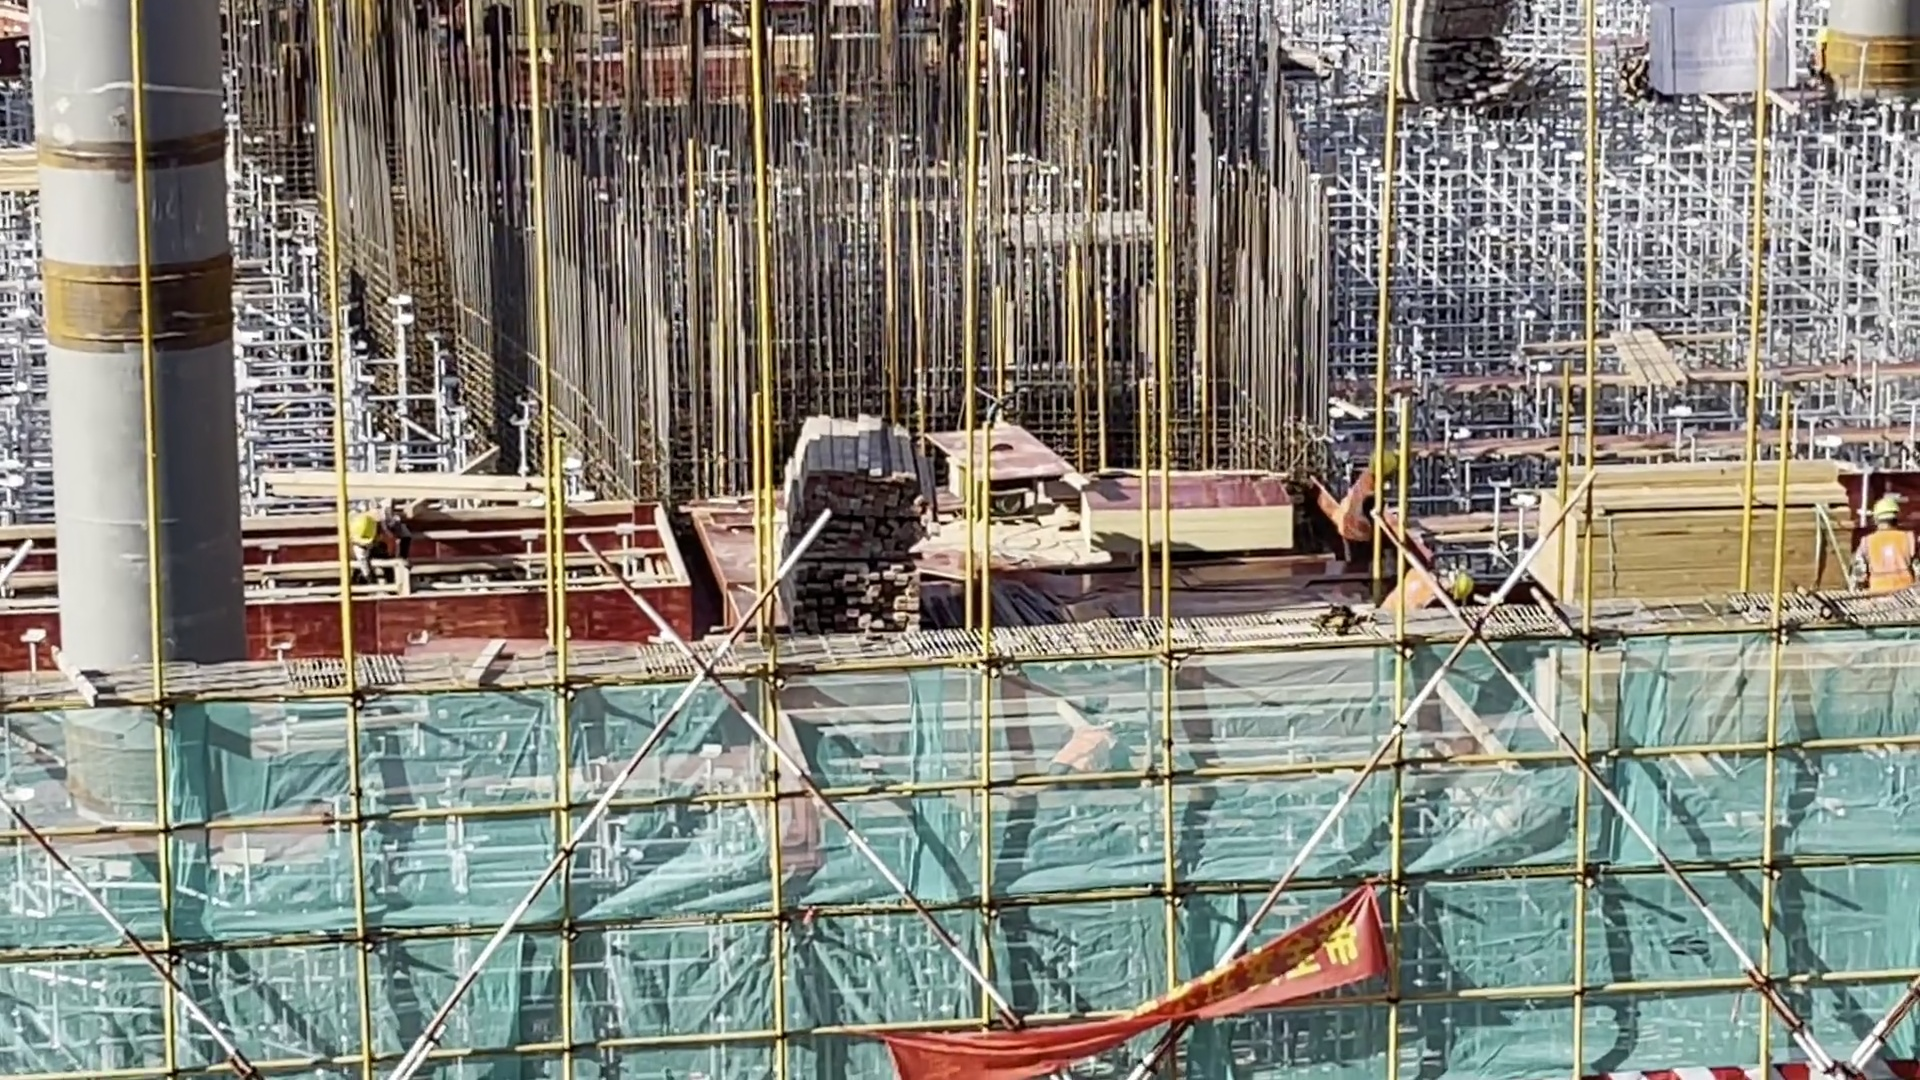helmet: (337, 506, 382, 554), (1356, 446, 1404, 483), (1871, 493, 1907, 523)
person: (1328, 448, 1426, 612), (1841, 490, 1920, 616), (337, 493, 441, 579)
slogan: (831, 871, 1506, 1072)
vest: (1860, 519, 1920, 599)
wood: (1529, 438, 1867, 627), (758, 395, 943, 641)
